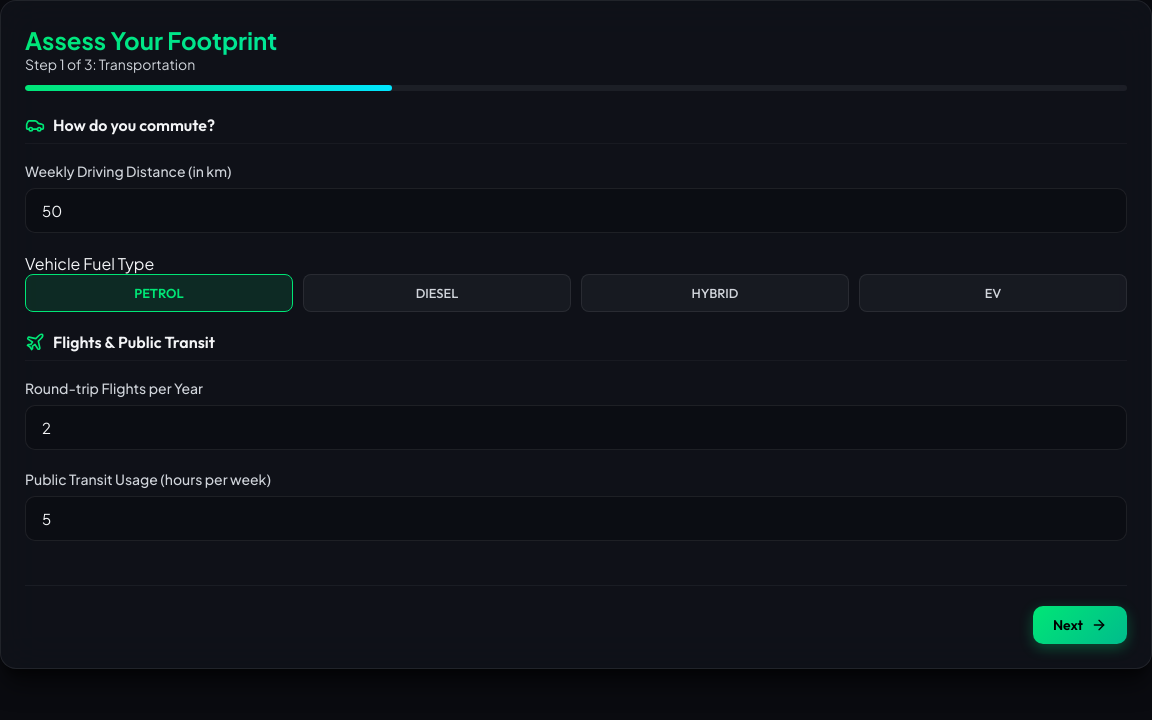
it: Calculator Component Tests › walks through steps on Next/Back click
Expected: the text "Step 1 of 3: Transportation" is shown, top-left (25, 55), bottom-right (195, 73)
Note: Advance to Step 2
Click the button "Next": (1080, 625) top-left (1033, 606), bottom-right (1127, 644)
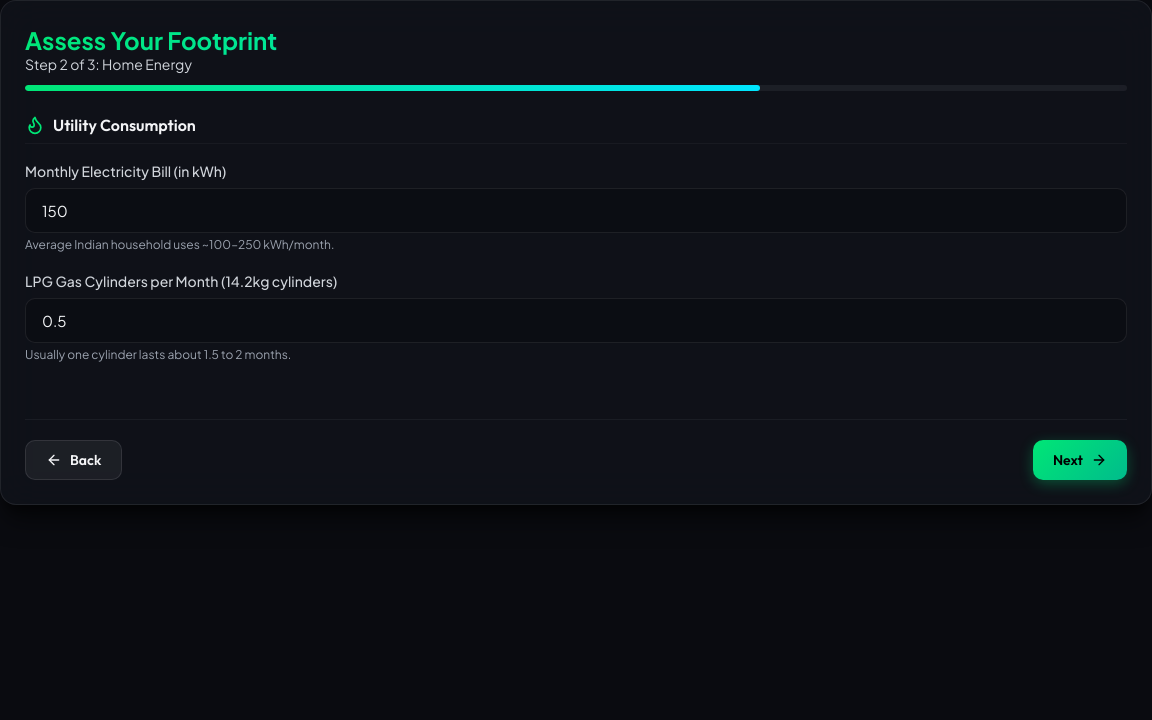
Expected: the text "Step 2 of 3: Home Energy" is shown, top-left (25, 55), bottom-right (192, 73)
Note: Go back to Step 1
Click the button "Back": (74, 460) top-left (25, 440), bottom-right (122, 480)
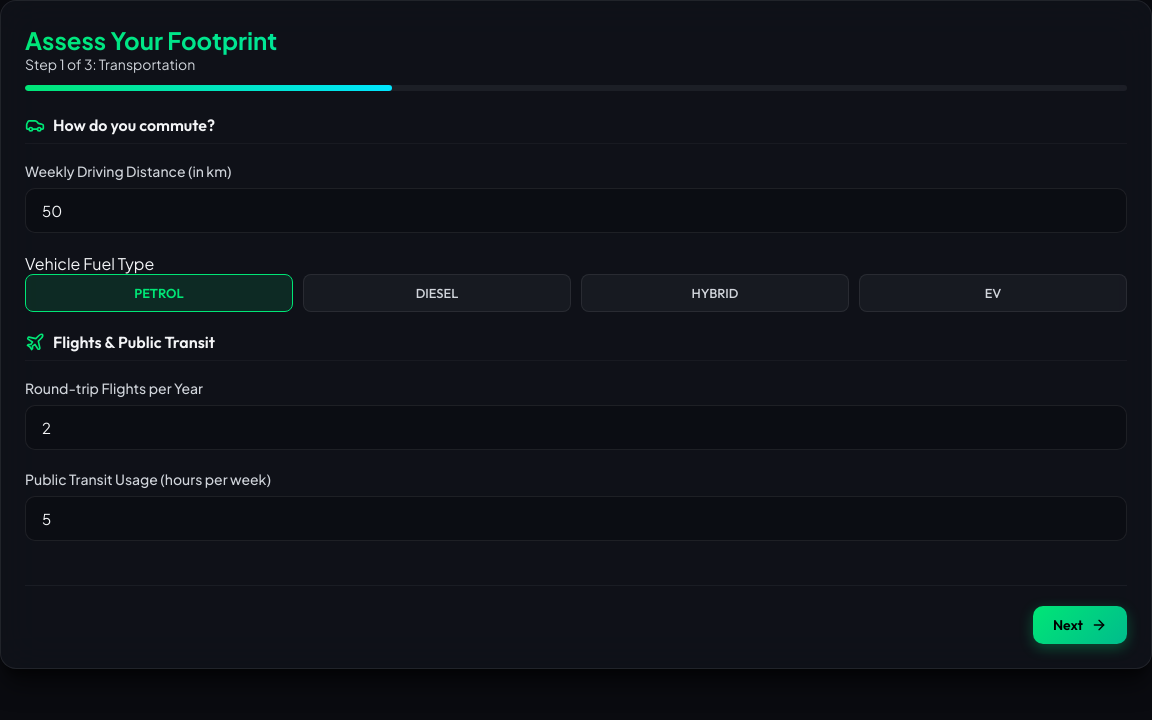
Expected: the text "Step 1 of 3: Transportation" is shown, top-left (25, 55), bottom-right (195, 73)
